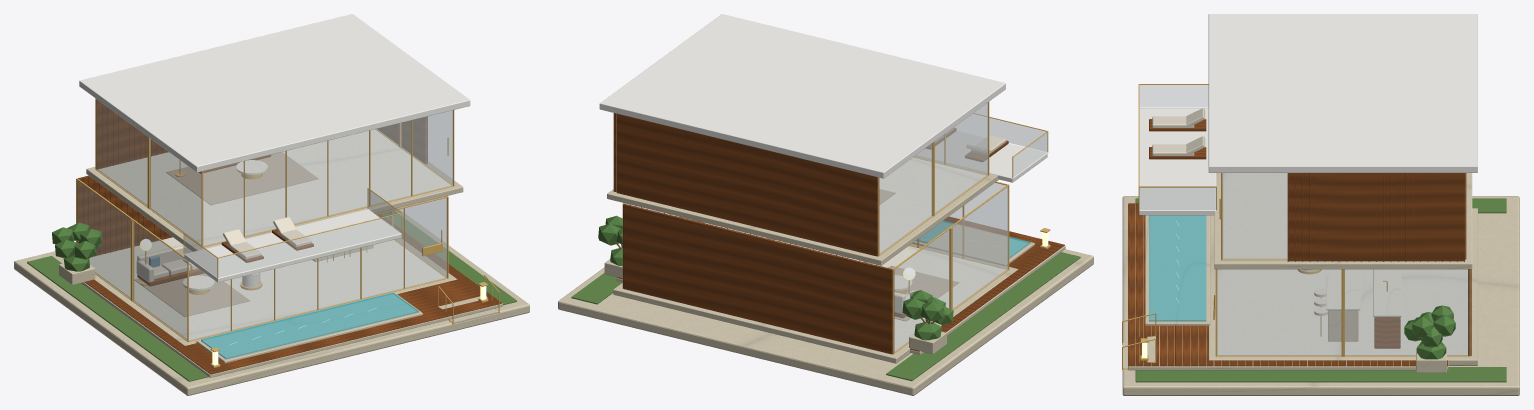
The model's file is House2.glb.
3 views of the same model, side by side, from view 1: azimuth 30°, elevation 25°; view 2: azimuth 150°, elevation 25°; view 3: azimuth 270°, elevation 25° (orthographic). The views are drawn at different scales.
Visible parts, largest first — view 1: House2, Base; view 2: House2, Base; view 3: House2, Base.
Boxes of the visible parts, box(x1,y1,x2,y2) form: House2: box(27, 14, 516, 381); Base: box(14, 209, 529, 395); House2: box(571, 14, 1080, 381); Base: box(558, 216, 1093, 395); House2: box(1122, 14, 1506, 382); Base: box(1122, 196, 1519, 395).
Size of the model in its own units: 41 by 21.8 by 36.05.
Materials: 17 (3 with a texture image).
